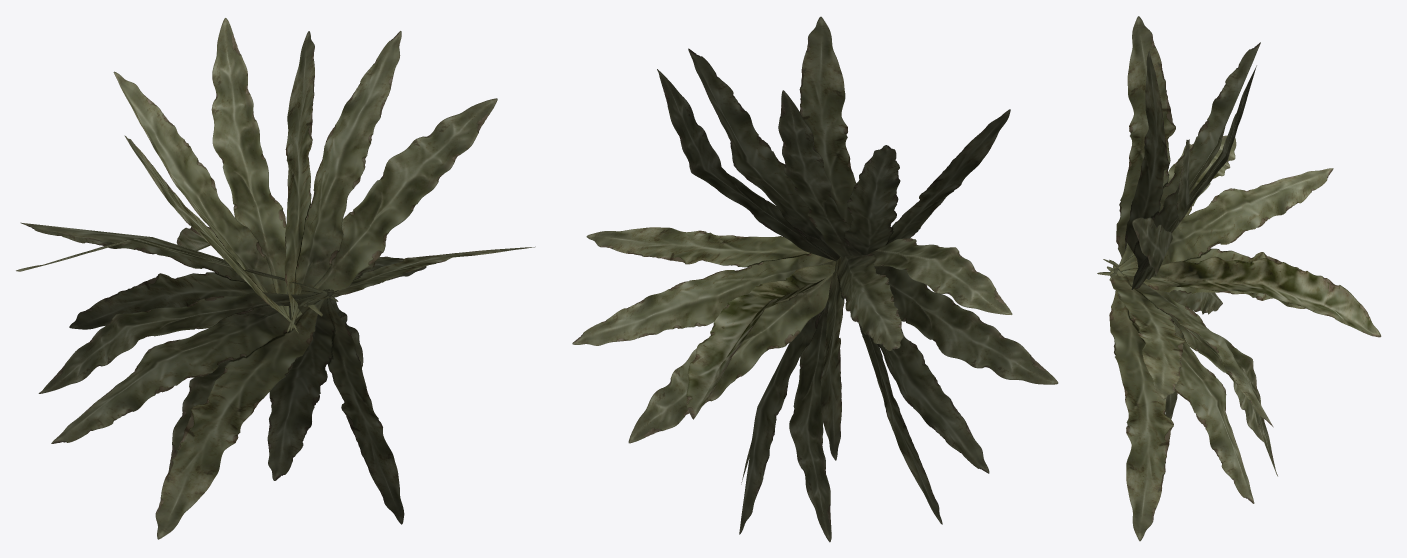
Rendered from TI_Weed_03_b_A.fbx.
3 renders of one model, left to right at view 1: azimuth 30°, elevation 25°; view 2: azimuth 150°, elevation 25°; view 3: azimuth 270°, elevation 25°, orthographic. The views are drawn at different scales.
Parts seen in each view (by area): view 1: TI_Weed_03_b_A; view 2: TI_Weed_03_b_A; view 3: TI_Weed_03_b_A.
Part boxes in pixels (<box>): TI_Weed_03_b_A: <box>16,18,535,539</box>; TI_Weed_03_b_A: <box>572,16,1058,542</box>; TI_Weed_03_b_A: <box>1097,16,1381,541</box>.
Bounding box in the file's own units: 1.65 × 1.63 × 0.9726.
